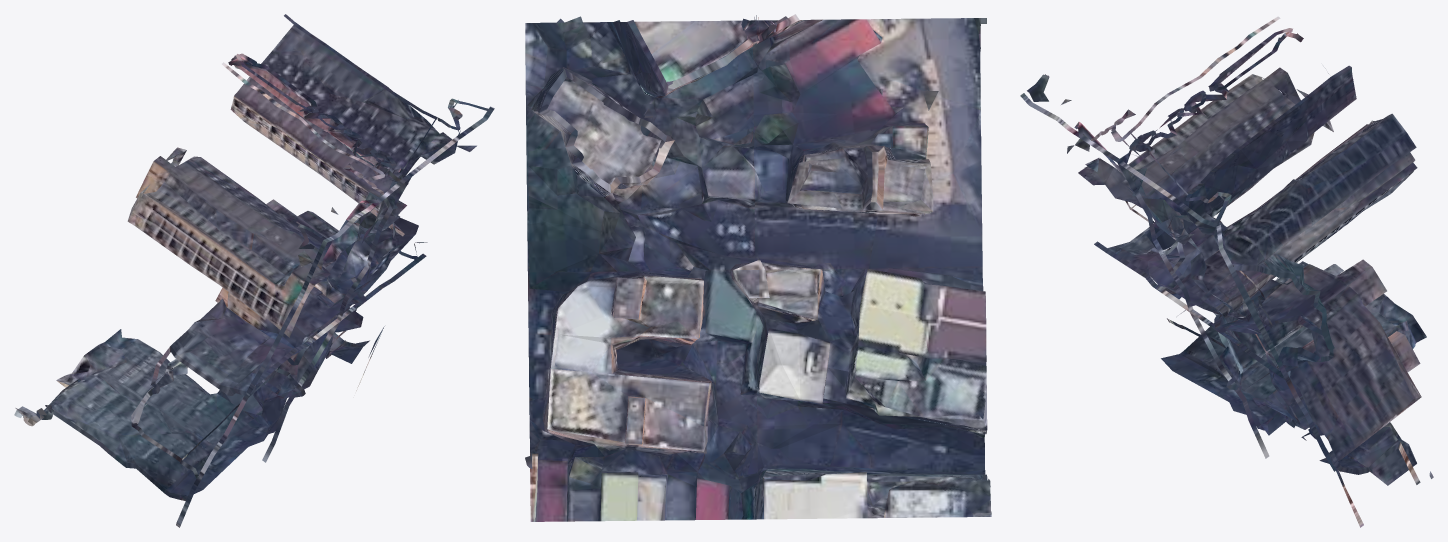
3 renders of one model, left to right at view 1: azimuth 30°, elevation 25°; view 2: azimuth 150°, elevation 25°; view 3: azimuth 270°, elevation 25°, orthographic. The views are drawn at different scales.
Bounding box in the file's own units: 95.43 × 88.08 × 77.13.
Materials: 2 (2 with a texture image).
